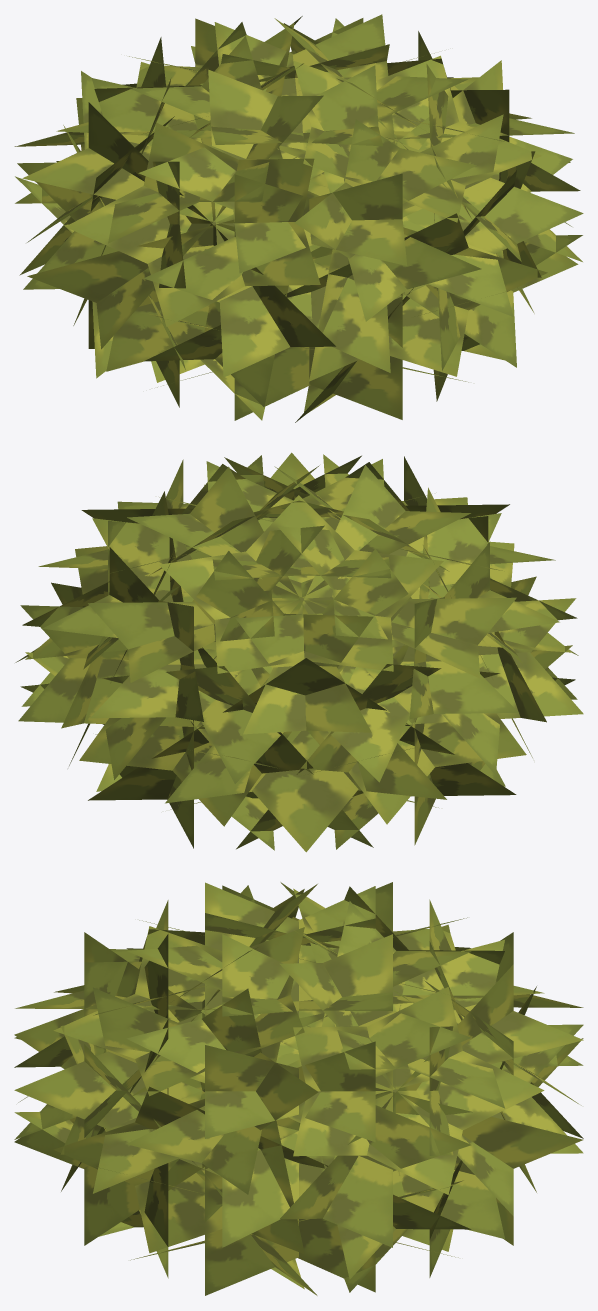
File: Moss_Fern_Blob_2.glb
The picture shows the model from 3 angles, top to bottom: view 1: azimuth 30°, elevation 25°; view 2: azimuth 150°, elevation 25°; view 3: azimuth 270°, elevation 25°; orthographic projection. The views are drawn at different scales.
Visible parts, largest first — view 1: Moss_Fern_Blob_2; view 2: Moss_Fern_Blob_2; view 3: Moss_Fern_Blob_2.
Boxes of the visible parts, x1=… form: Moss_Fern_Blob_2: x1=14, y1=14, x2=583, y2=422; Moss_Fern_Blob_2: x1=15, y1=452, x2=583, y2=852; Moss_Fern_Blob_2: x1=14, y1=882, x2=583, y2=1295.
Size of the model in its own units: 0.7026 by 0.3694 by 0.6487.
Materials: 1 (1 with a texture image).
